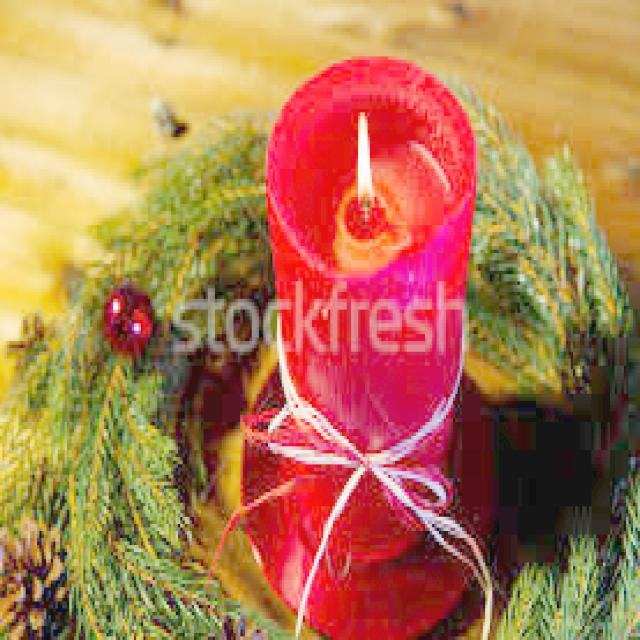api: (347, 110, 380, 212)
